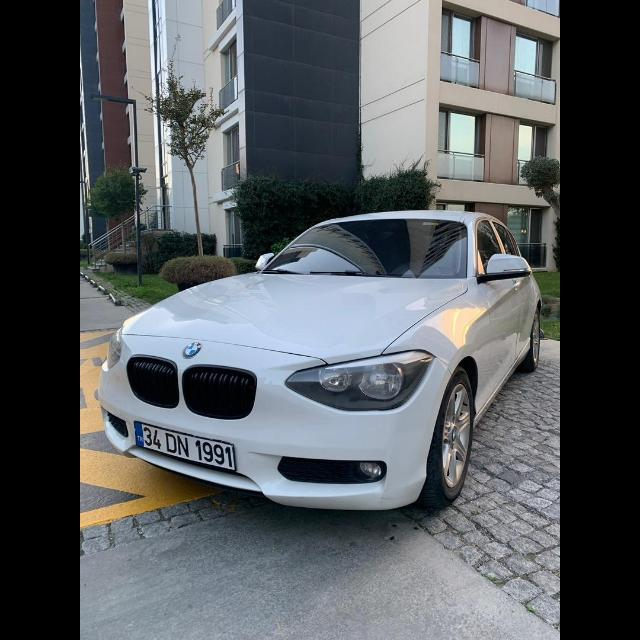Plaka: (135, 422, 235, 468)
